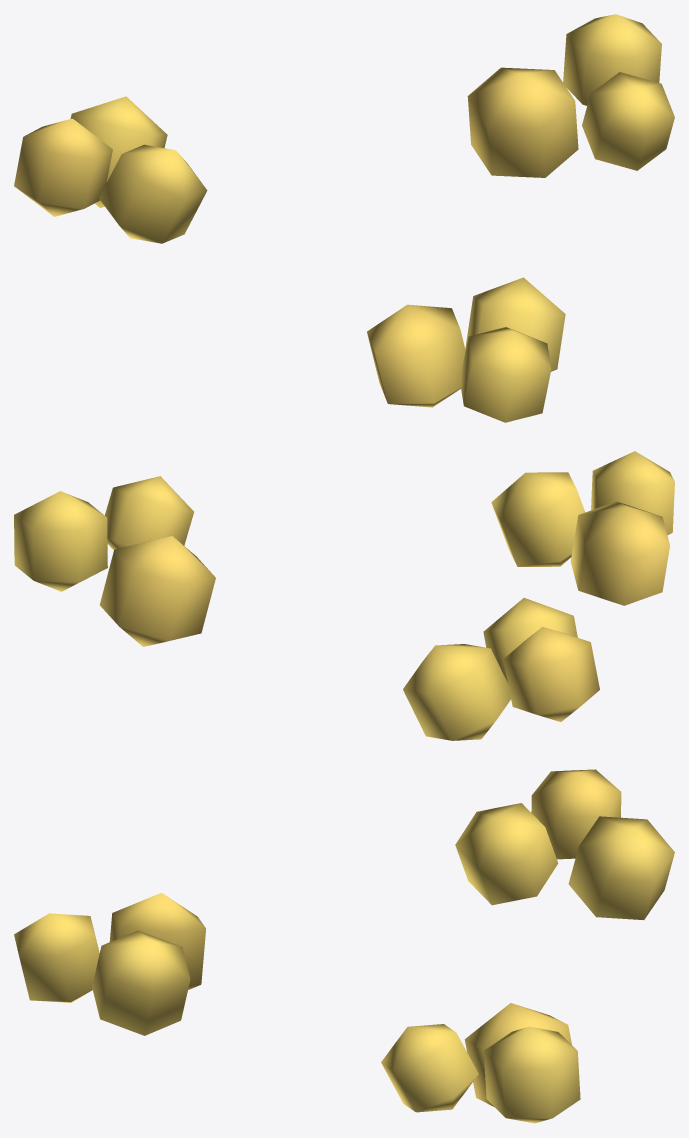
Rendered from Prop_ButterflyFountain_Lights.glb.
3 renders of one model, top to bottom at view 1: azimuth 30°, elevation 25°; view 2: azimuth 150°, elevation 25°; view 3: azimuth 270°, elevation 25°, orthographic. The views are drawn at different scales.
Parts seen in each view (by area): view 1: Prop_ButterflyFountain_Lights; view 2: Prop_ButterflyFountain_Lights; view 3: Prop_ButterflyFountain_Lights.
Boxes of the visible parts, x1,y1,x2,y2 form: Prop_ButterflyFountain_Lights: [14, 14, 674, 422]; Prop_ButterflyFountain_Lights: [14, 451, 674, 740]; Prop_ButterflyFountain_Lights: [14, 769, 674, 1123].
Bounding box in the file's own units: 0.2167 × 0.0568 × 0.2085.
1 material, 1 textured.
